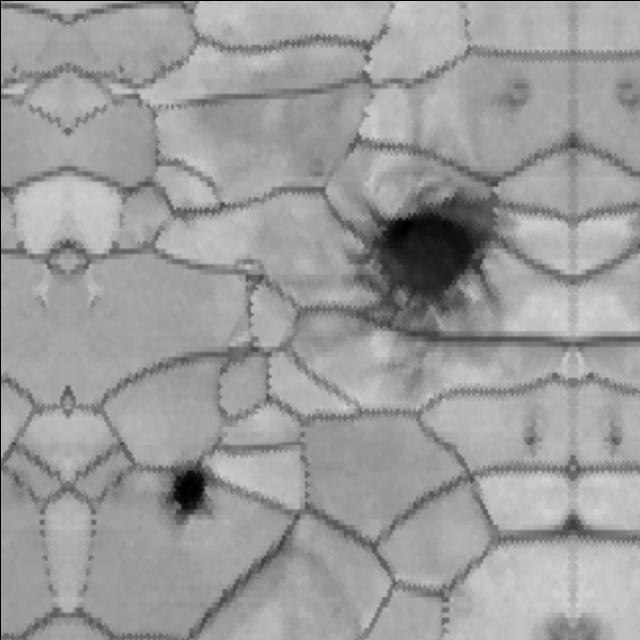good_void: (353, 184, 502, 385), (157, 449, 226, 525), (480, 71, 540, 119), (606, 71, 640, 119), (517, 418, 546, 457), (600, 418, 629, 457), (541, 610, 573, 640), (573, 610, 605, 640), (240, 268, 268, 289)
